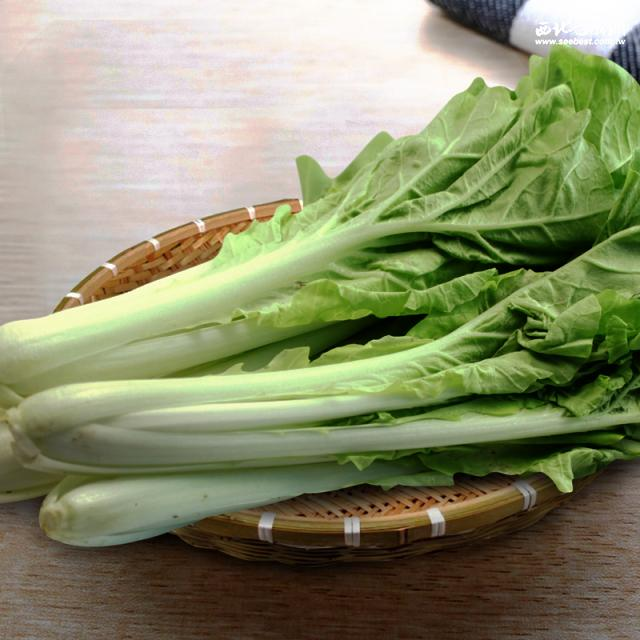chinese_cabbage: (19, 24, 563, 596)
